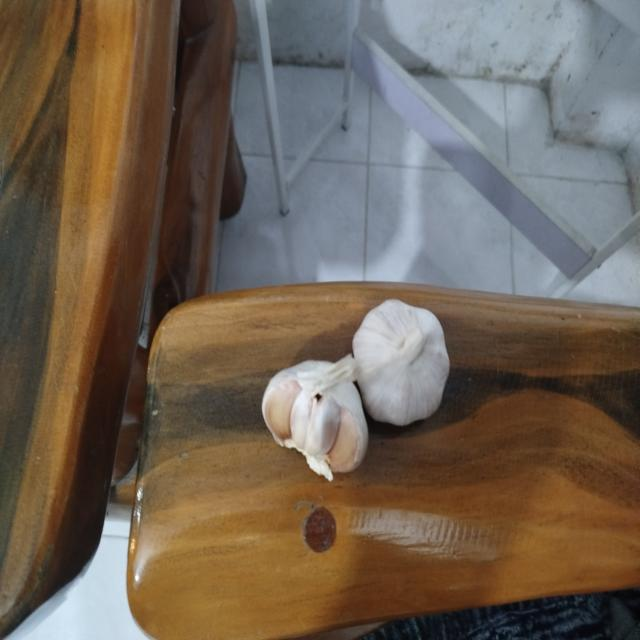garlic: (262, 354, 368, 481), (352, 298, 450, 426)
